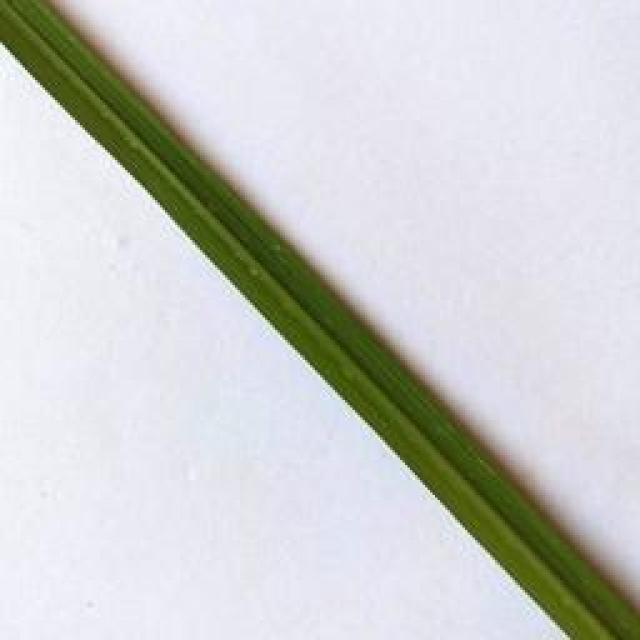Bacterial_Blight: (241, 264, 269, 283)
